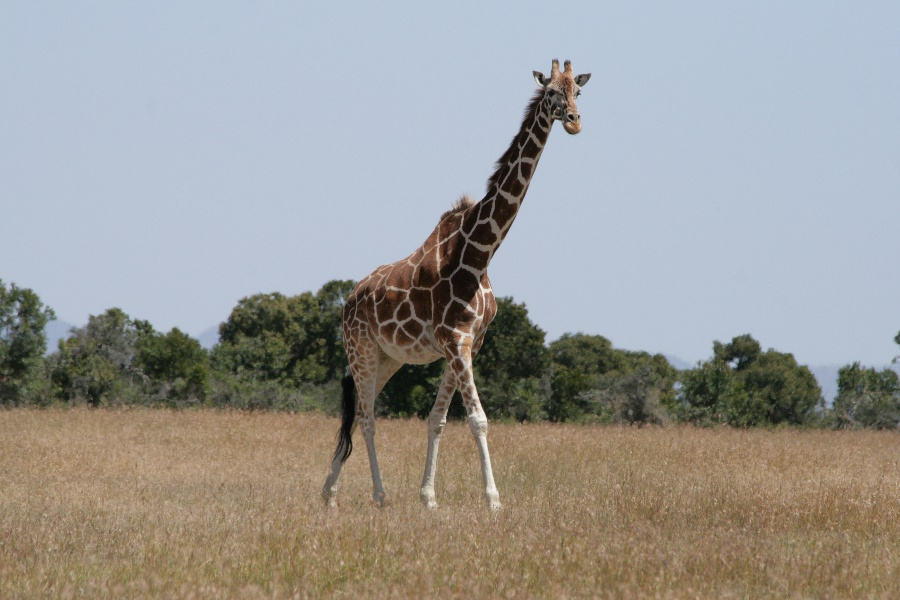giraffe: (312, 54, 594, 516)
